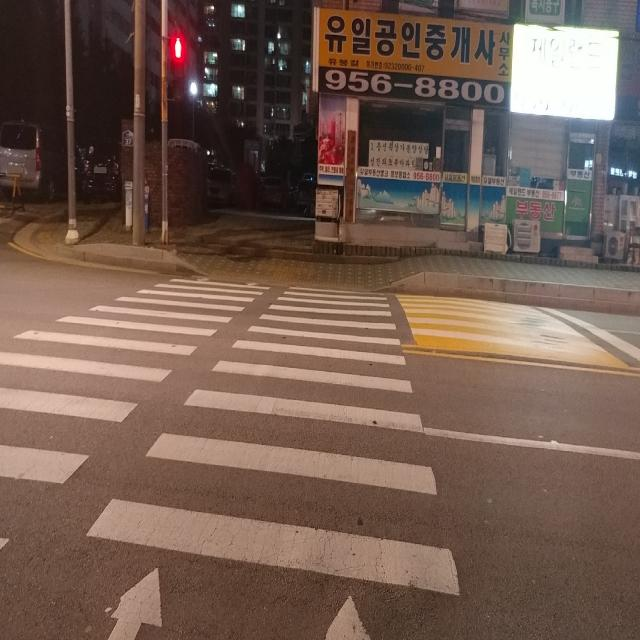빨간불: (170, 34, 186, 107)
횡단보도: (0, 277, 462, 639)
